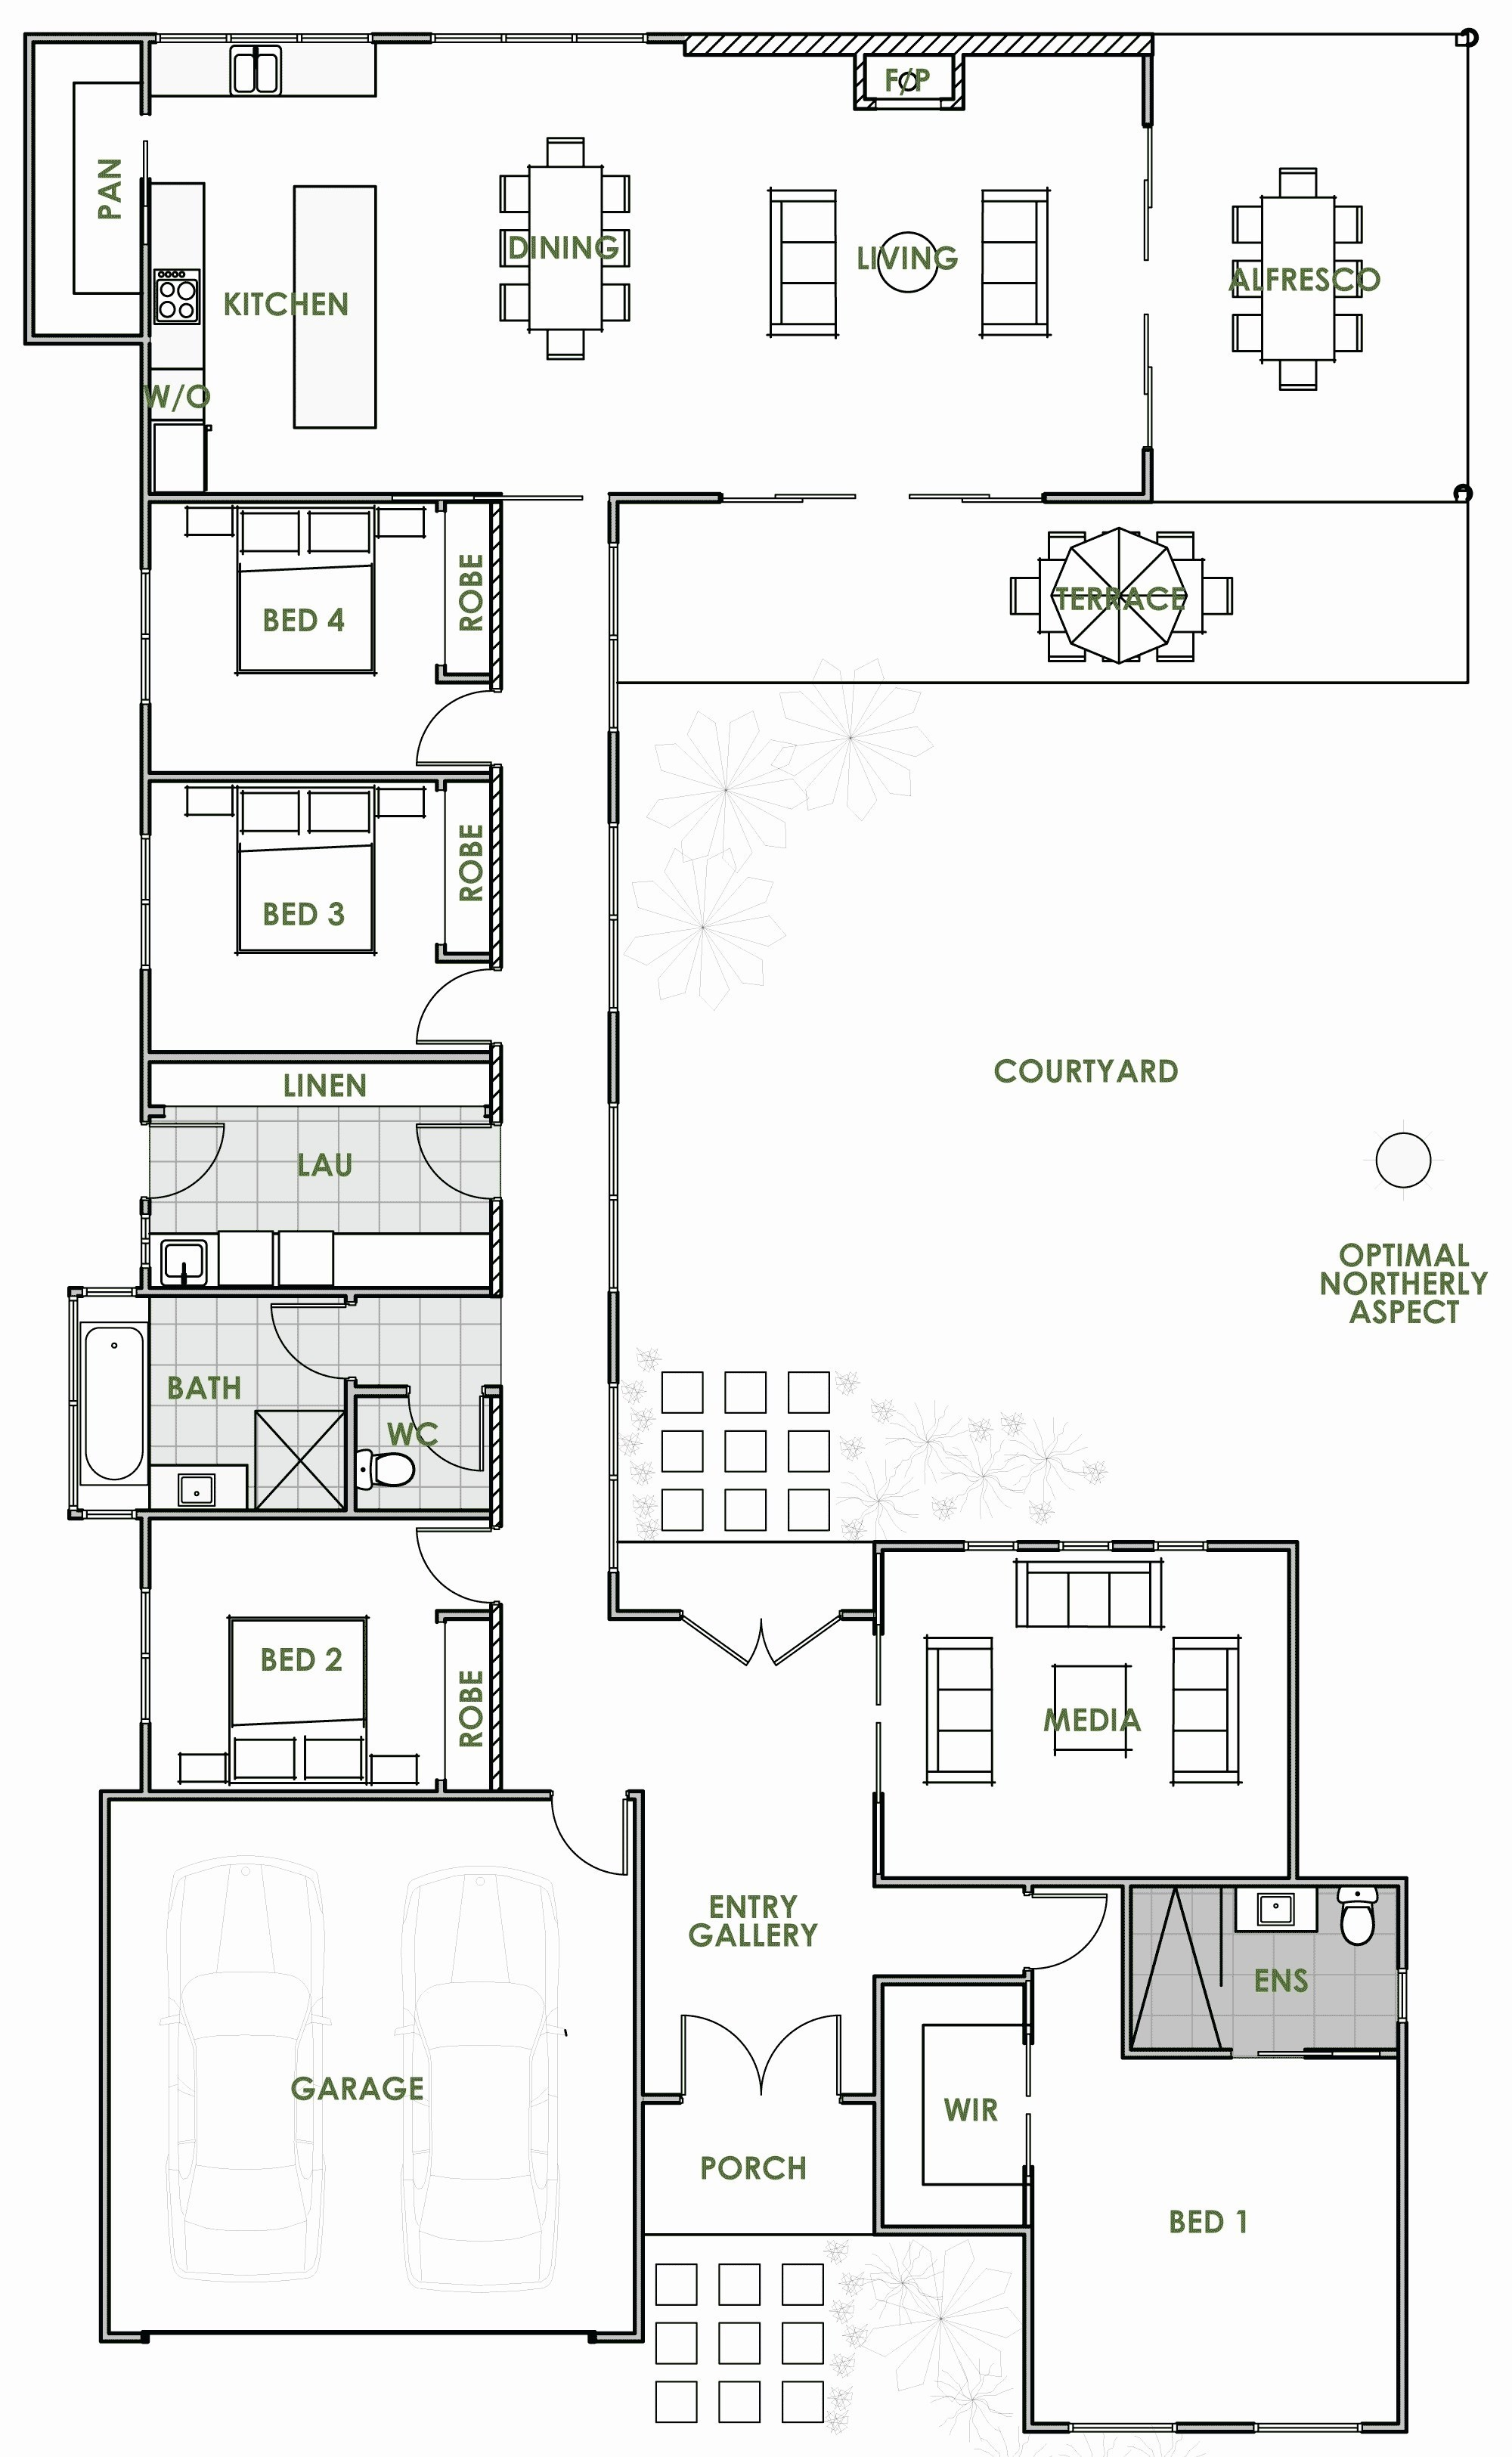door: (656, 1990, 856, 2092), (398, 686, 486, 776), (398, 965, 496, 1044), (535, 1808, 637, 1883), (395, 1513, 489, 1588), (1056, 1888, 1112, 1974)
room: (133, 39, 1147, 500), (1026, 1873, 1412, 2432), (137, 765, 503, 1053), (133, 1513, 500, 1797), (142, 493, 503, 776)
